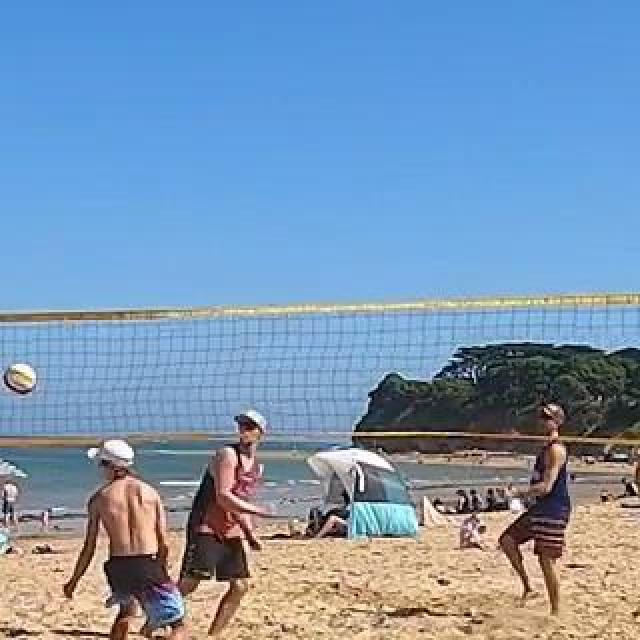volleyball: (5, 364, 35, 394)
